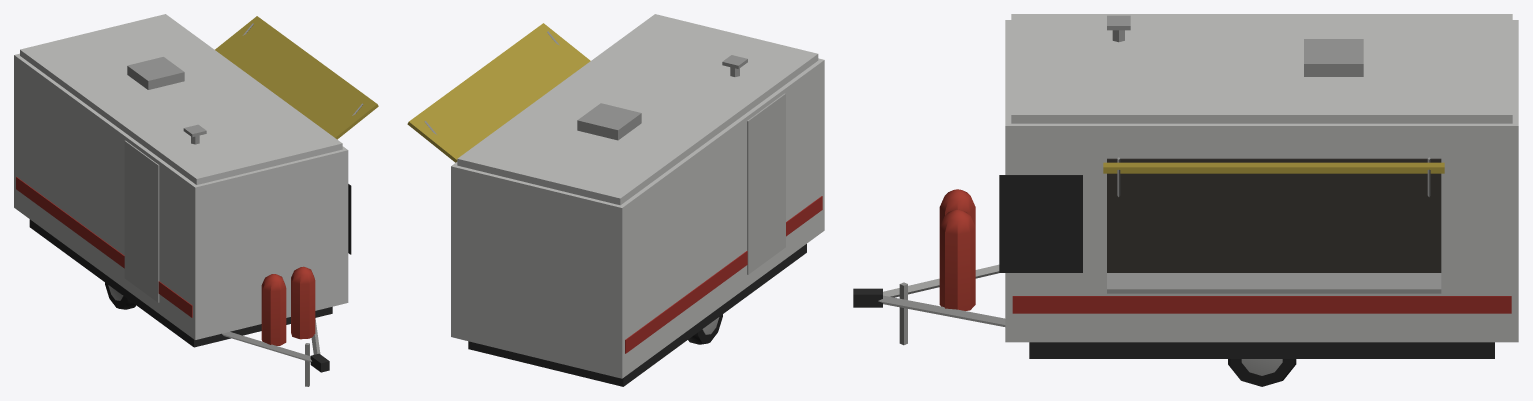
File: SM_Prop_road_burgervan_0_LOD1.glb
The picture shows the model from 3 angles, left to right: view 1: azimuth 30°, elevation 25°; view 2: azimuth 150°, elevation 25°; view 3: azimuth 270°, elevation 25°; orthographic projection. The views are drawn at different scales.
Visible parts, largest first — view 1: SM_Prop_road_burgervan_0_LOD1; view 2: SM_Prop_road_burgervan_0_LOD1; view 3: SM_Prop_road_burgervan_0_LOD1.
Boxes of the visible parts, bbox=[...] form: SM_Prop_road_burgervan_0_LOD1: bbox=[14, 14, 378, 386]; SM_Prop_road_burgervan_0_LOD1: bbox=[407, 14, 824, 386]; SM_Prop_road_burgervan_0_LOD1: bbox=[853, 14, 1518, 386].
Bounding box in the file's own units: 3.01 × 2.75 × 5.58.
